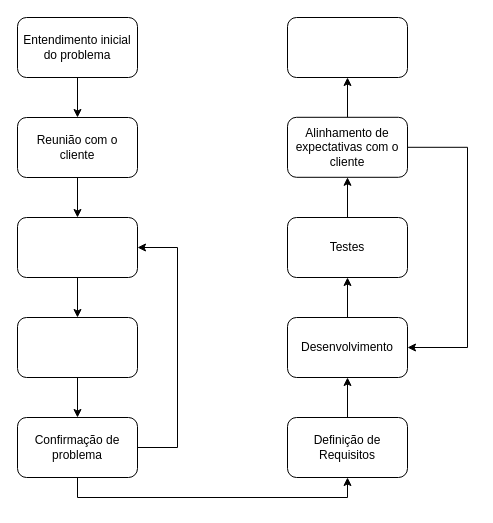
Image size: 493x523. Some labels were removed from this diagram. The box of each missing label's shape, as (x1, y1, x2, y2) in pixels:
Definição do problema: (16, 316, 138, 378)
Pesquisas: (16, 216, 138, 278)
Protótipo Final: (286, 16, 408, 78)
